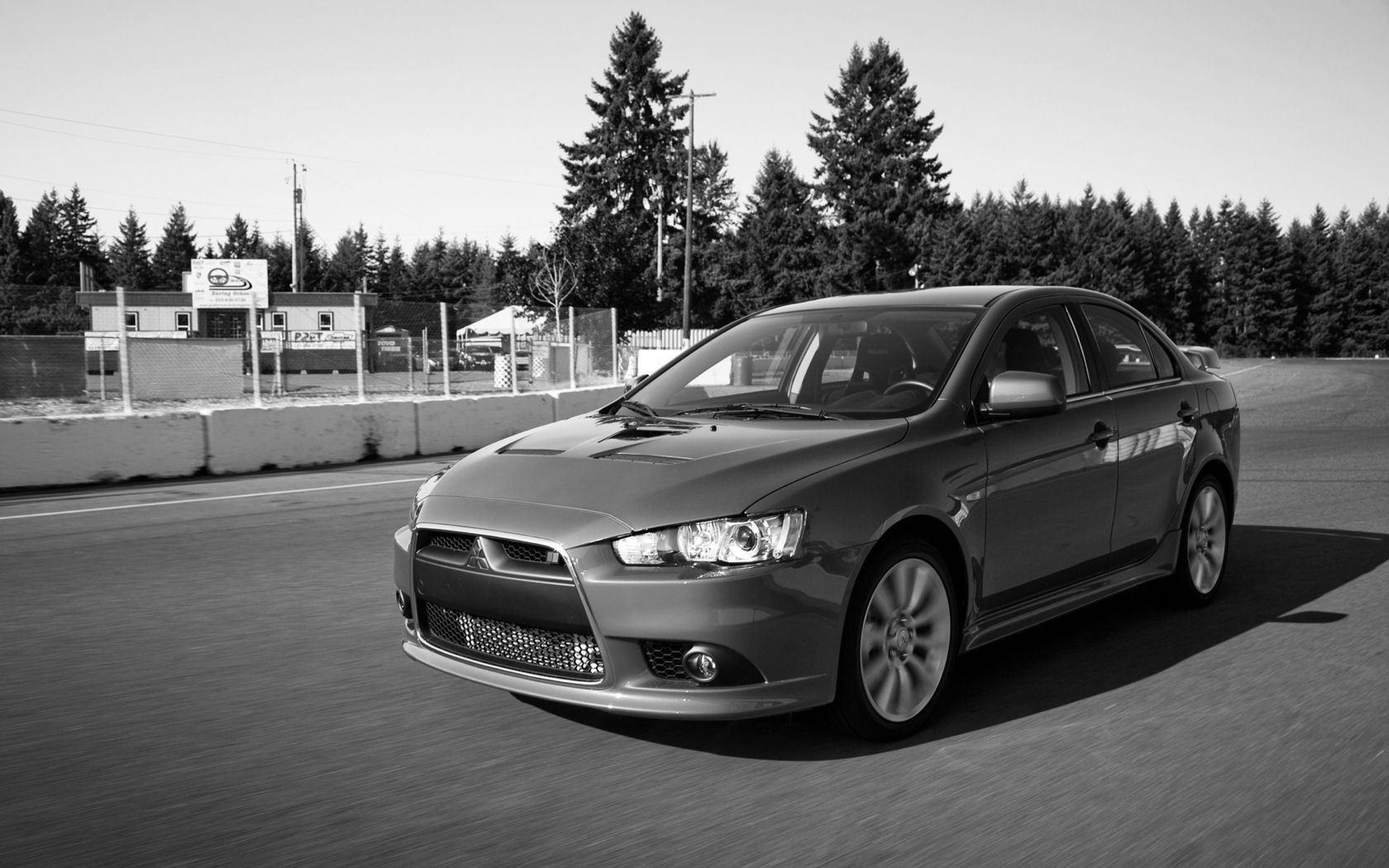car: (389, 283, 1248, 746)
